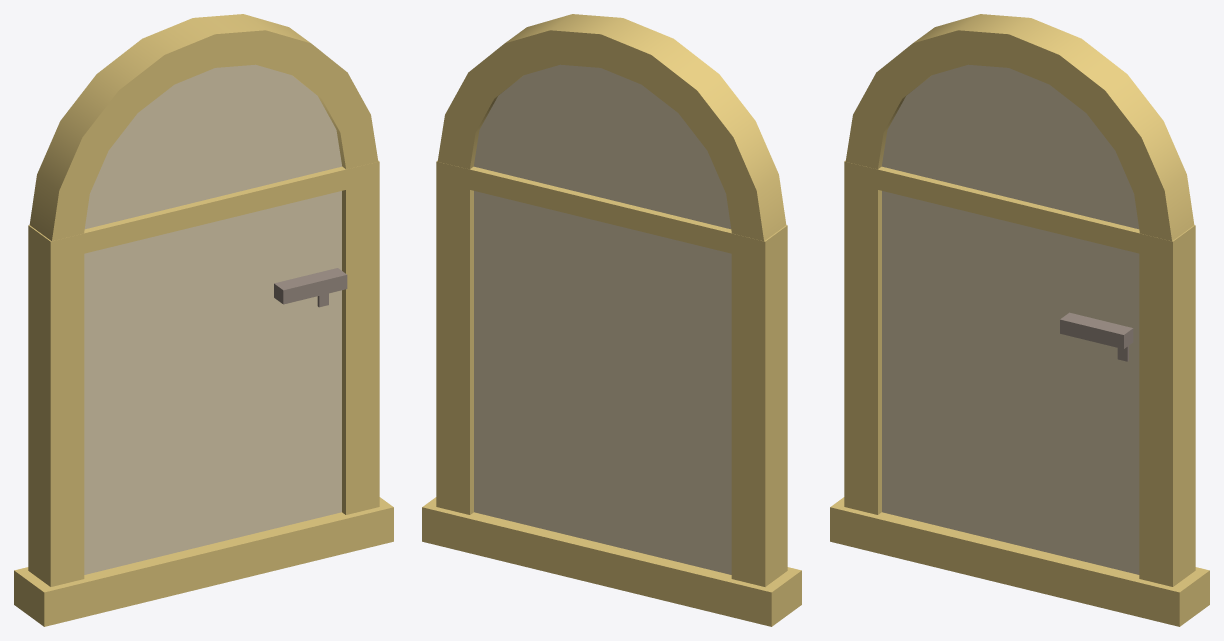
File: kapı 2.1.3.fbx
3 views of the same model, side by side, from view 1: azimuth 30°, elevation 25°; view 2: azimuth 150°, elevation 25°; view 3: azimuth 330°, elevation 25° (orthographic).
Parts seen in each view (by area): view 1: pCube21; view 2: pCube21; view 3: pCube21.
Boxes of the visible parts, x1,y1,x2,y2 form: pCube21: [14, 14, 393, 626]; pCube21: [422, 14, 801, 626]; pCube21: [830, 14, 1209, 626].
Size of the model in its own units: 967 by 1446 by 167.
